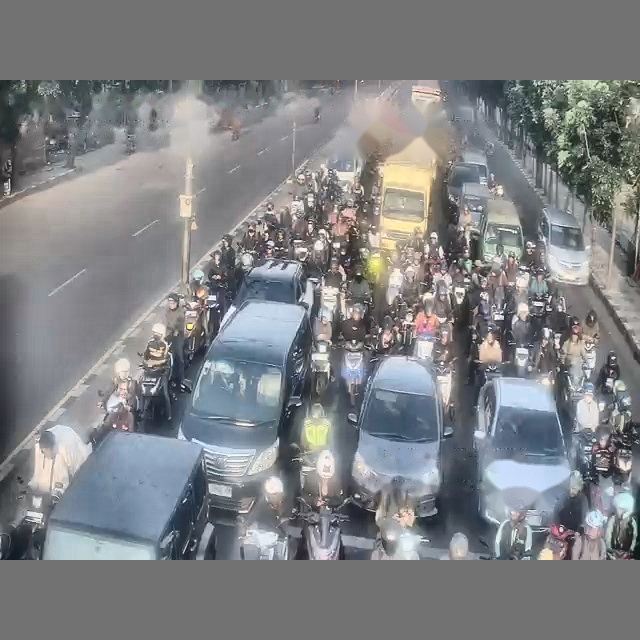Mobil: (178, 301, 312, 513), (43, 432, 214, 559), (348, 355, 452, 517), (474, 377, 570, 531), (221, 259, 316, 325), (539, 207, 589, 284), (478, 198, 523, 261), (460, 183, 493, 234), (445, 162, 480, 207), (461, 149, 488, 184)
Motor: (140, 354, 172, 430), (341, 340, 367, 406), (184, 300, 206, 365), (311, 341, 330, 397)
Truk: (379, 137, 437, 250)
